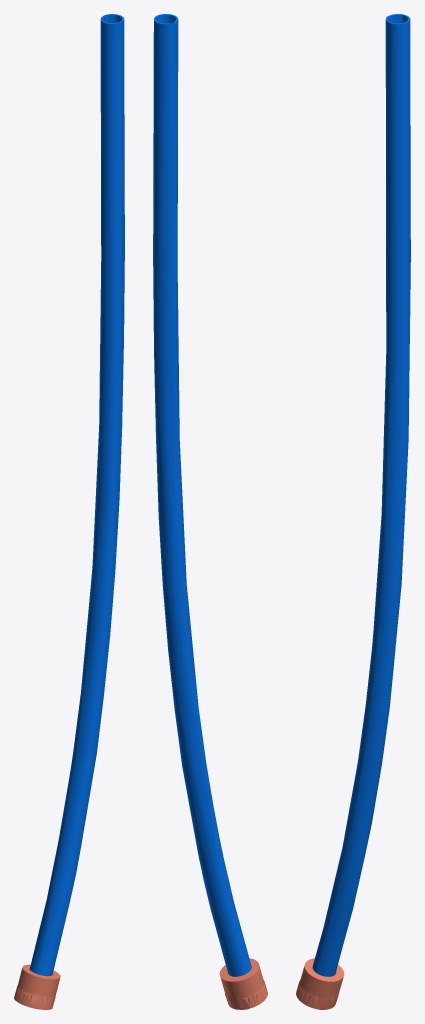
The model's file is Blue pip.fbx.
The picture shows the model from 3 angles, left to right: view 1: azimuth 30°, elevation 25°; view 2: azimuth 210°, elevation 25°; view 3: azimuth 330°, elevation 25°; orthographic projection. The views are drawn at different scales.
Visible parts, largest first — view 1: Blue pip; view 2: Blue pip; view 3: Blue pip.
Boxes of the visible parts, x1,y1,x2,y2 form: Blue pip: (14, 14, 124, 1009); Blue pip: (153, 14, 267, 1009); Blue pip: (296, 14, 410, 1009).
Bounding box in the file's own units: 4.89 × 42.74 × 1.62.
Materials: 1 (1 with a texture image).
